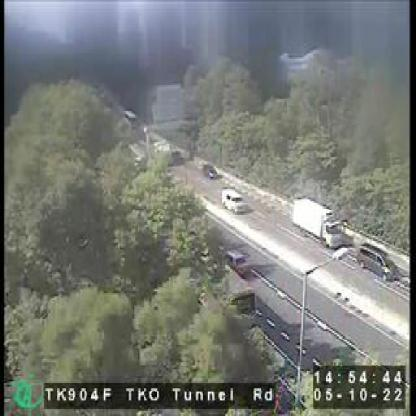Car: (356, 243, 394, 279), (225, 250, 247, 276), (222, 189, 243, 213), (203, 163, 216, 180)
Truck: (291, 196, 342, 246)
